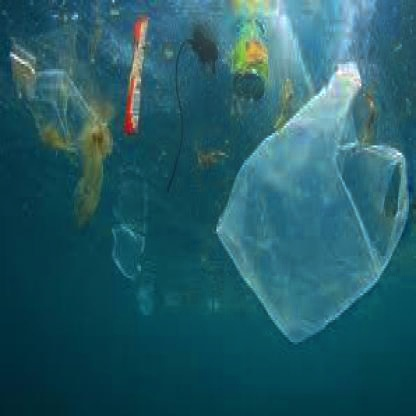can: (230, 12, 268, 101)
pbag: (215, 59, 412, 347)
